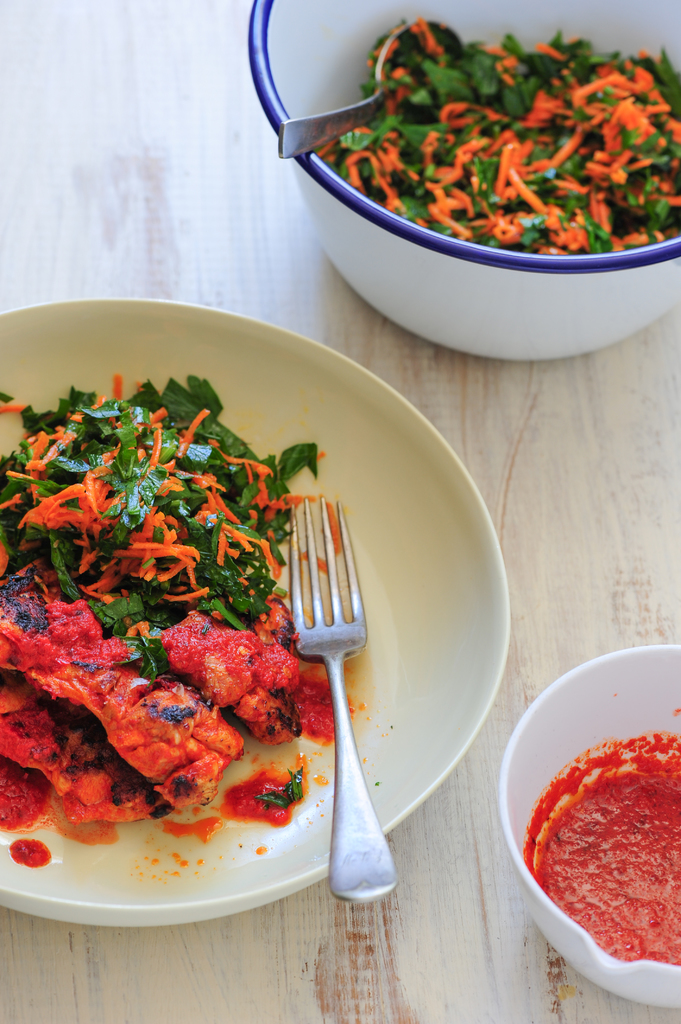Carrot: (5, 369, 344, 621), (346, 46, 650, 244)
